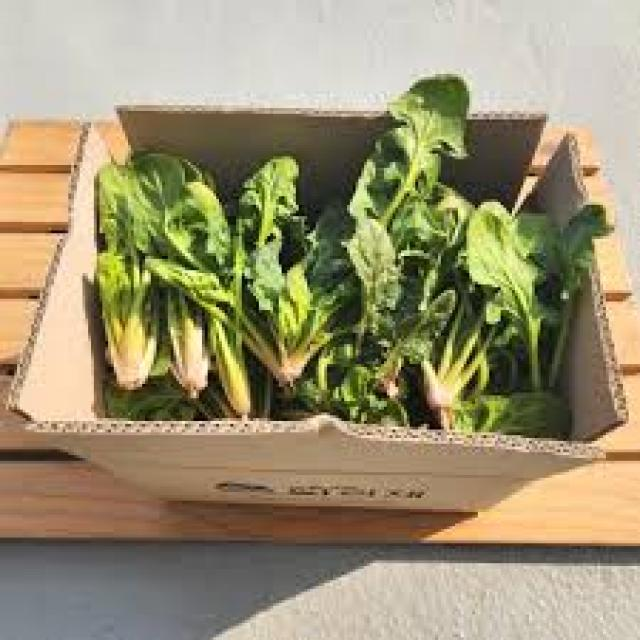Spinach bagged/loose: (97, 80, 609, 428)
